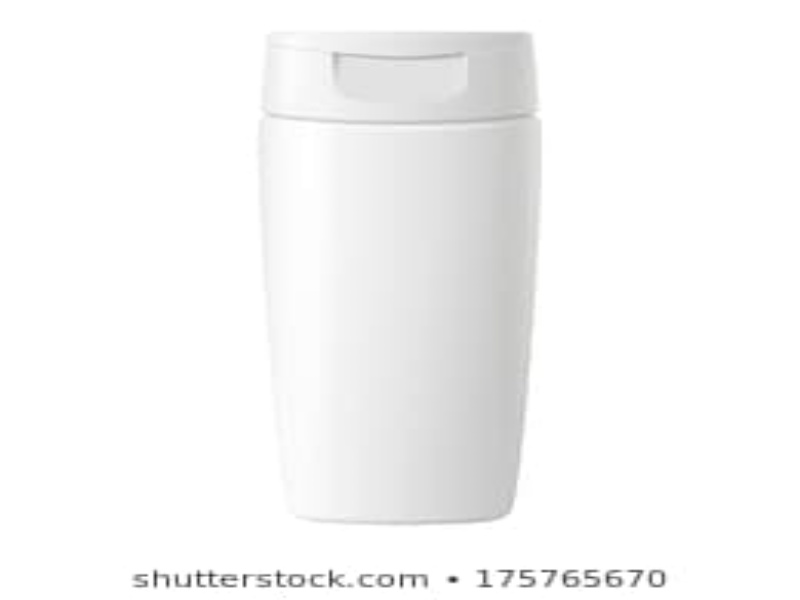shampoo-bottle: (243, 23, 543, 531)
